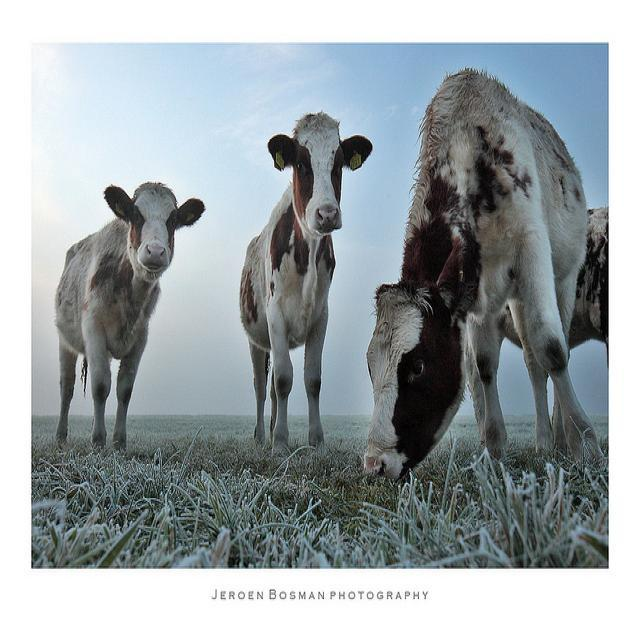cow: (362, 63, 606, 484), (239, 111, 373, 459), (50, 175, 208, 460), (550, 209, 608, 457)
